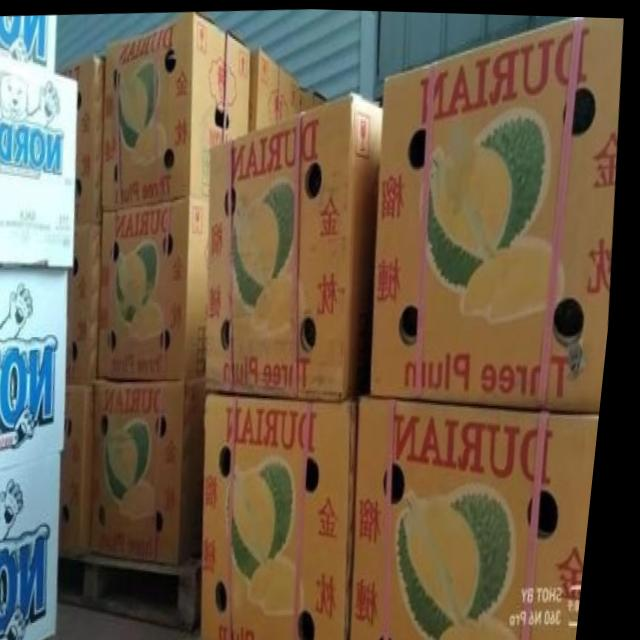box: (378, 13, 624, 412), (364, 393, 608, 640), (213, 89, 384, 400), (213, 392, 367, 640), (105, 11, 252, 211), (101, 375, 215, 565), (105, 198, 214, 379), (0, 55, 80, 270), (0, 267, 74, 472), (0, 451, 71, 640), (58, 56, 107, 225), (71, 380, 105, 555), (74, 222, 106, 387), (251, 47, 303, 130), (0, 15, 58, 70), (302, 86, 329, 108)
